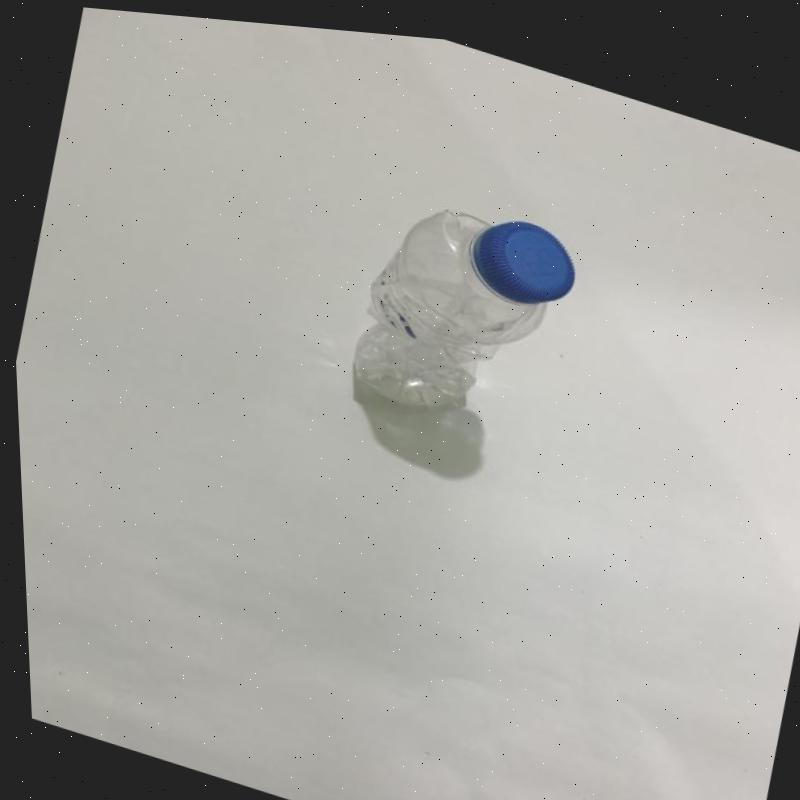botella: (334, 165, 587, 440)
